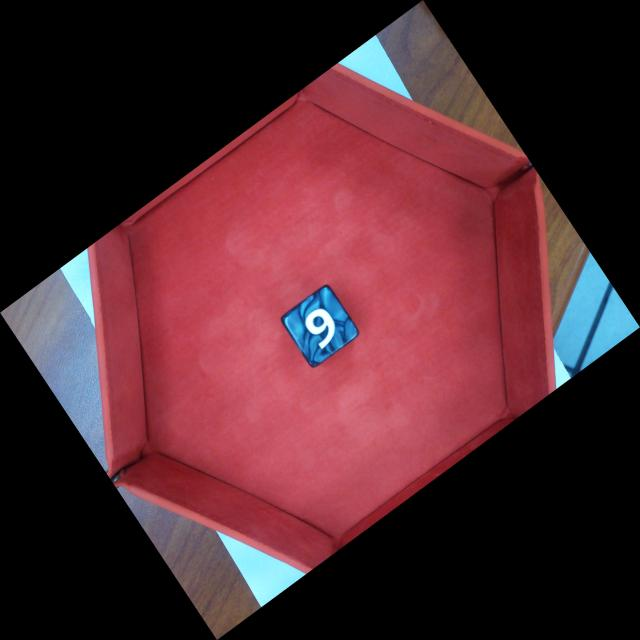dice: (277, 284, 362, 372)
